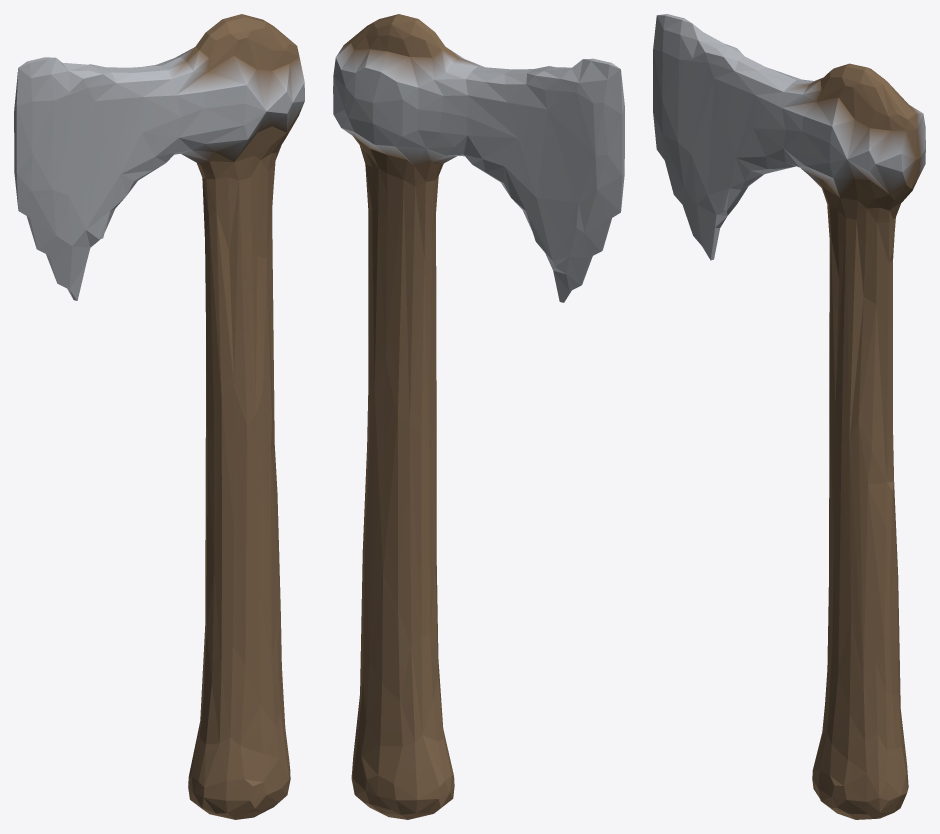
Rendered from axe_steel.glb.
The picture shows the model from 3 angles, left to right: view 1: azimuth 30°, elevation 25°; view 2: azimuth 150°, elevation 25°; view 3: azimuth 330°, elevation 25°; orthographic projection. The views are drawn at different scales.
Parts seen in each view (by area): view 1: world; view 2: world; view 3: world.
Part boxes in pixels (x1,y1,x2,y2): world: (14,14,304,819); world: (333,14,624,819); world: (653,14,925,819).
Bounding box in the file's own units: 0.3706 × 1 × 0.1037.
